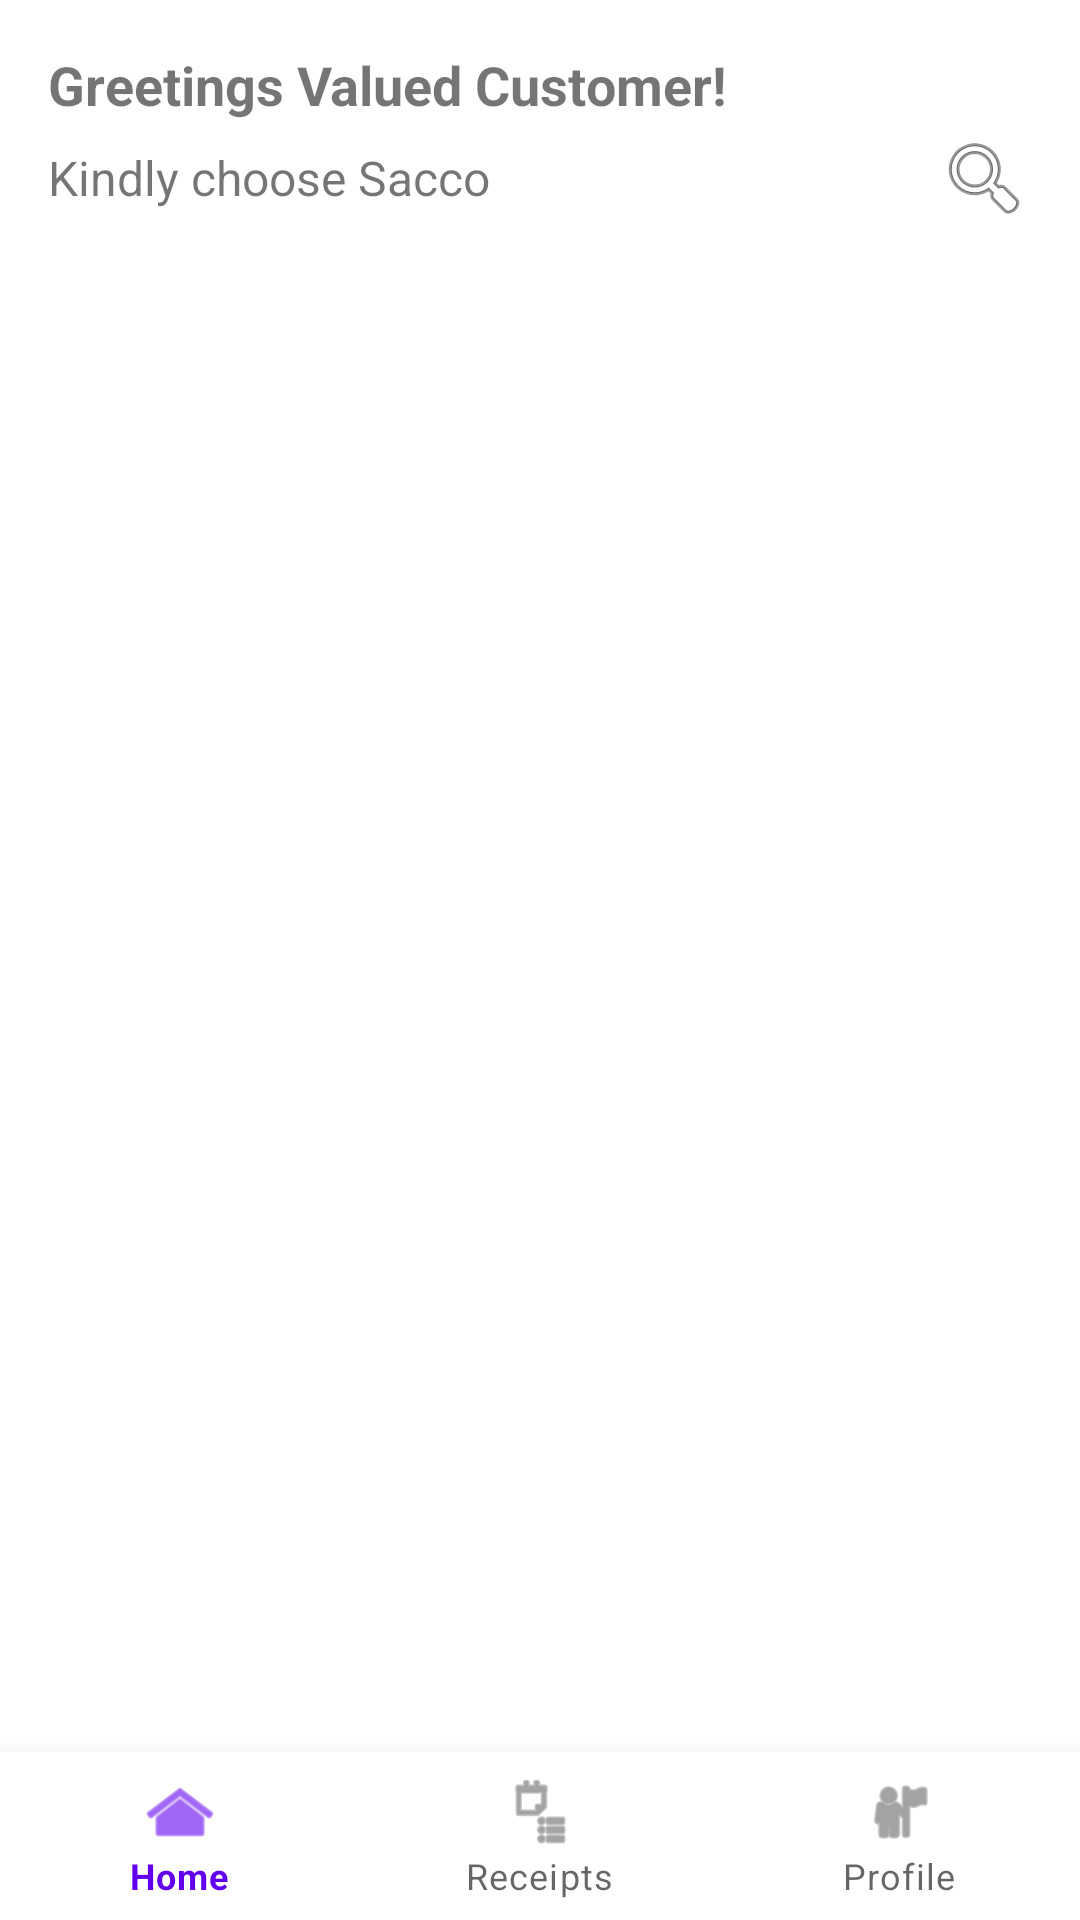

Named icons in this screenshot (1080px x 1920px) and their centers, (x,y):
search: (984,178)
